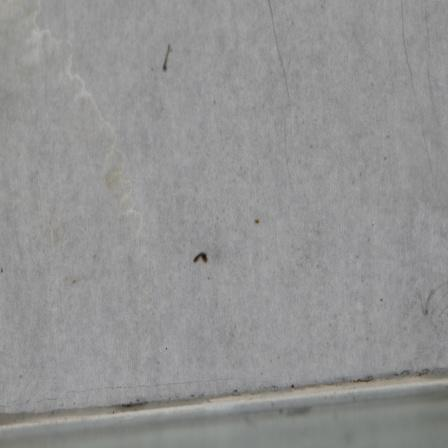Jentik-Nyamuk: (159, 40, 174, 74), (189, 246, 209, 268)
